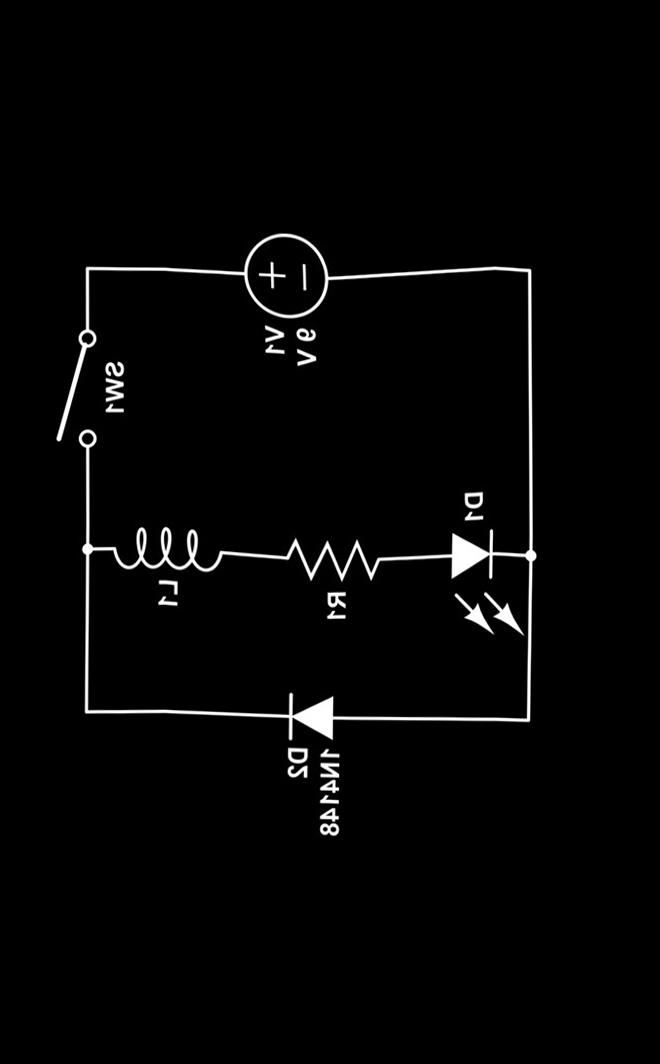Battery: (194, 202, 372, 331)
